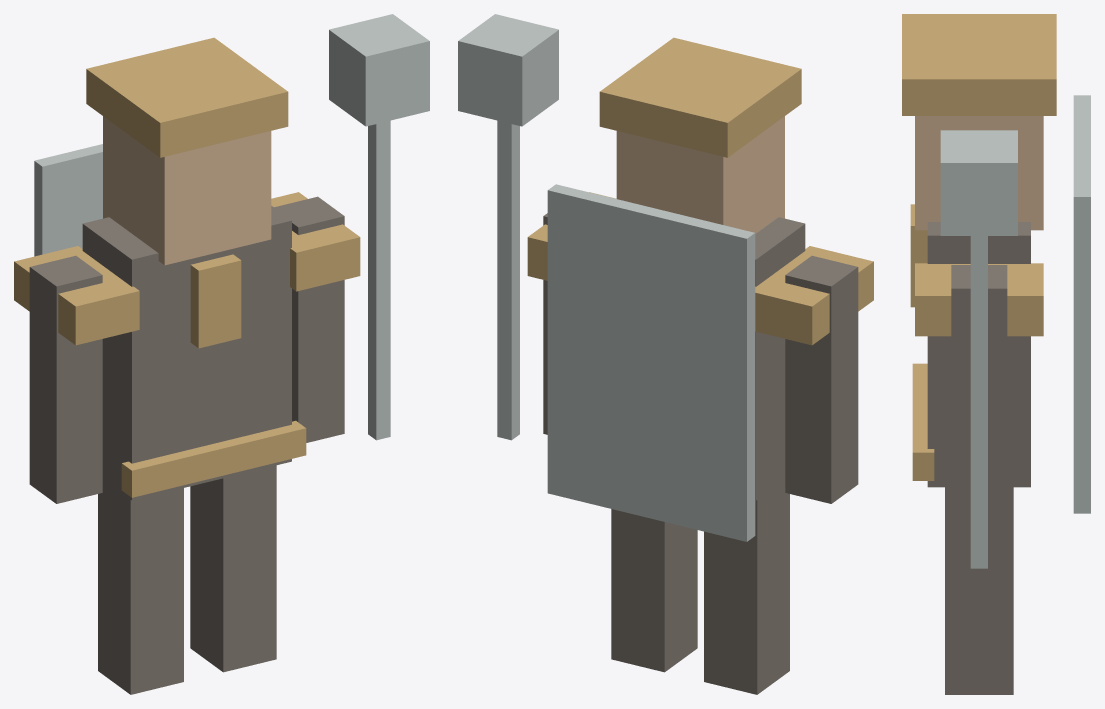
The model's file is 12_eryk_voidrill_ranger_from_syllable.glb.
3 views of the same model, side by side, from view 1: azimuth 30°, elevation 25°; view 2: azimuth 150°, elevation 25°; view 3: azimuth 270°, elevation 25° (orthographic). The views are drawn at different scales.
Parts seen in each view (by area): view 1: Eryk Voidrill, Ranger from Syllable; view 2: Eryk Voidrill, Ranger from Syllable; view 3: Eryk Voidrill, Ranger from Syllable.
Part boxes in pixels (x1,y1,x2,y2): Eryk Voidrill, Ranger from Syllable: (14,14,429,694); Eryk Voidrill, Ranger from Syllable: (458,14,873,694); Eryk Voidrill, Ranger from Syllable: (902,14,1090,694).
Size of the model in its own units: 1.05 by 1.6 by 0.4475.
